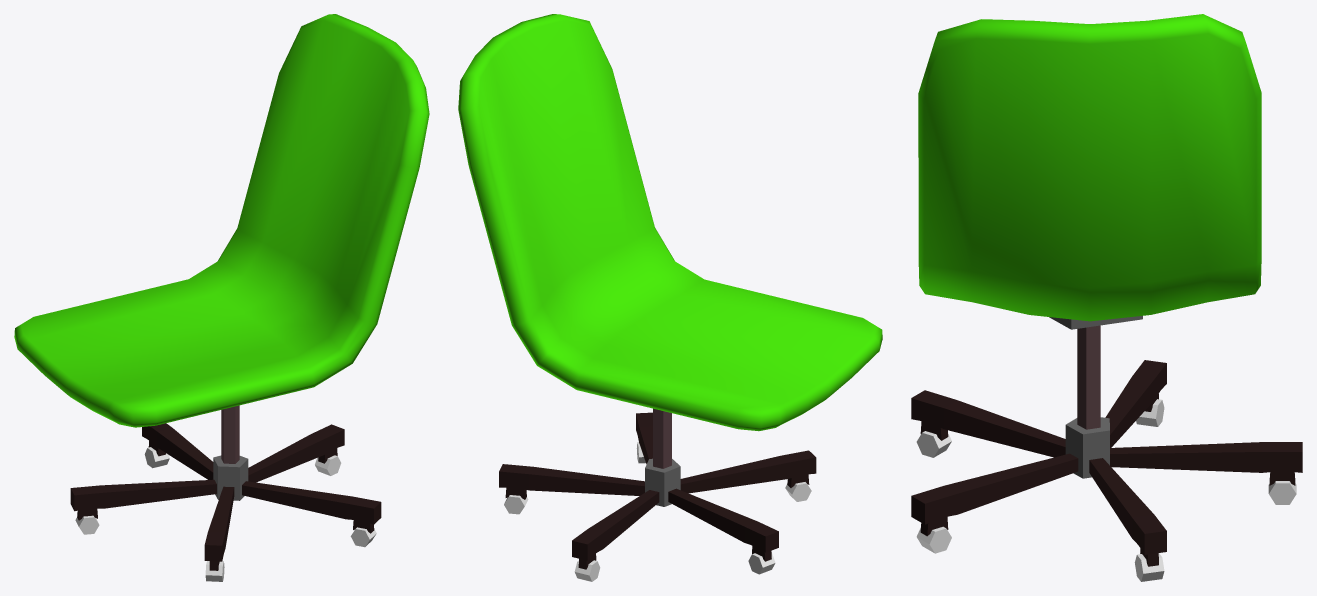
The model's file is stolica_2.fbx.
3 views of the same model, side by side, from view 1: azimuth 30°, elevation 25°; view 2: azimuth 150°, elevation 25°; view 3: azimuth 270°, elevation 25° (orthographic). The views are drawn at different scales.
Parts seen in each view (by area): view 1: Plane.001; view 2: Plane.001; view 3: Plane.001.
Part boxes in pixels (x1,y1,x2,y2): Plane.001: [14, 14, 429, 581]; Plane.001: [458, 14, 882, 581]; Plane.001: [911, 14, 1302, 581].
Bounding box in the file's own units: 183 × 229 × 141.
